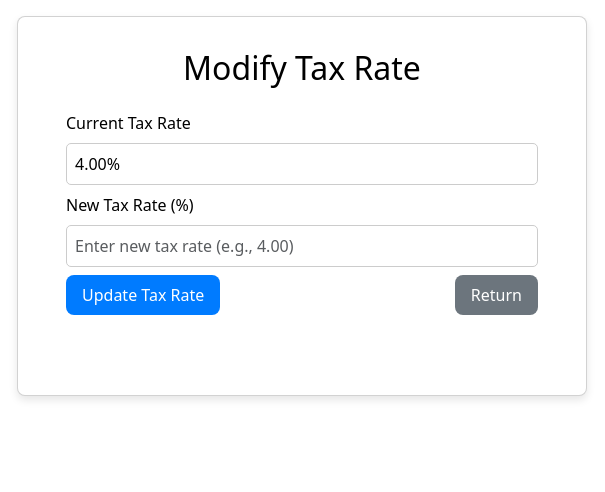
ModifyTaxRateComponent › successfully updates tax rate and displays success message
Expected: the field showing "4.00%" is shown, [66,143,538,185]
Note: Enter a new valid tax rate
Type "5" into the number field with placeholder "Enter new tax rate (e.g., 4.00)".
click(302, 246); type("5")  # box [66,225,538,267]
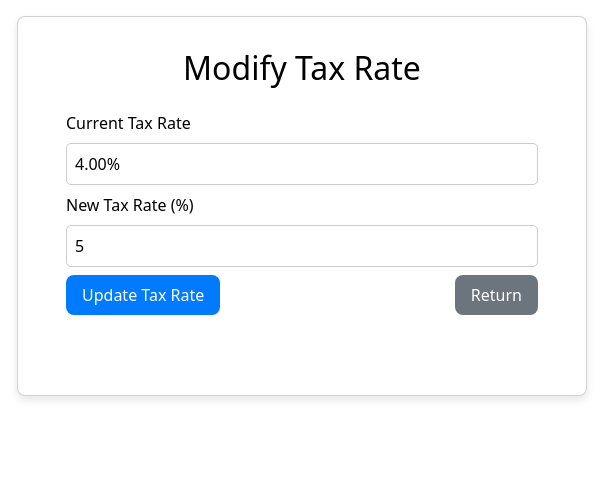
Click the button "Update Tax Rate".
click(143, 295)  # box [66,275,220,315]
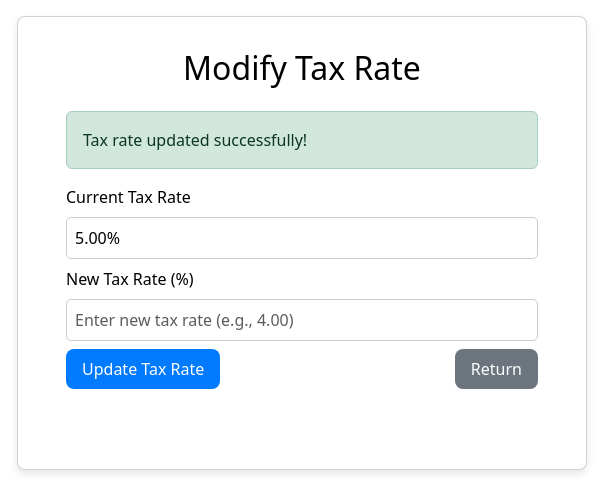
Expected: the text "Tax rate updated successfully!" is shown, [66,111,538,169]
Expected: the field showing "5.00%" is shown, [66,217,538,259]
